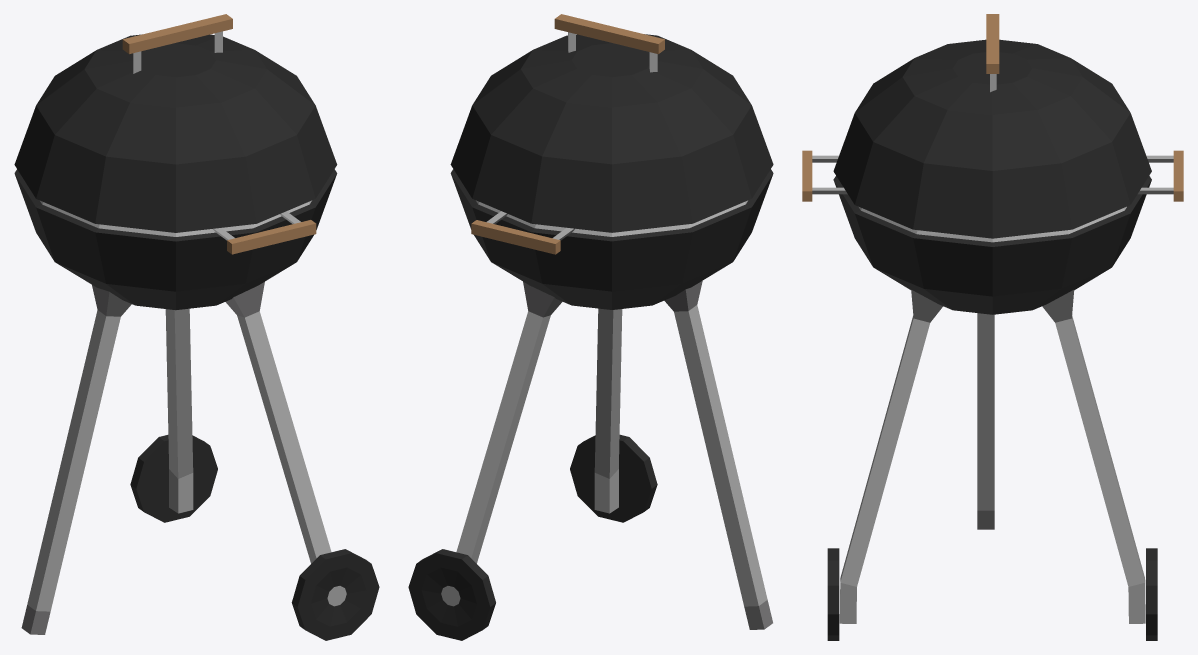
Rendered from SM_grill.gltf.
The picture shows the model from 3 angles, left to right: view 1: azimuth 30°, elevation 25°; view 2: azimuth 150°, elevation 25°; view 3: azimuth 270°, elevation 25°; orthographic projection.
Parts seen in each view (by area): view 1: SM_grill; view 2: SM_grill; view 3: SM_grill.
Boxes of the visible parts, x1,y1,x2,y2 form: SM_grill: (14, 14, 379, 640); SM_grill: (408, 14, 773, 640); SM_grill: (802, 14, 1183, 640).
Bounding box in the file's own units: 0.6771 × 1.25 × 0.7735.
Materials: 1 (1 with a texture image).
